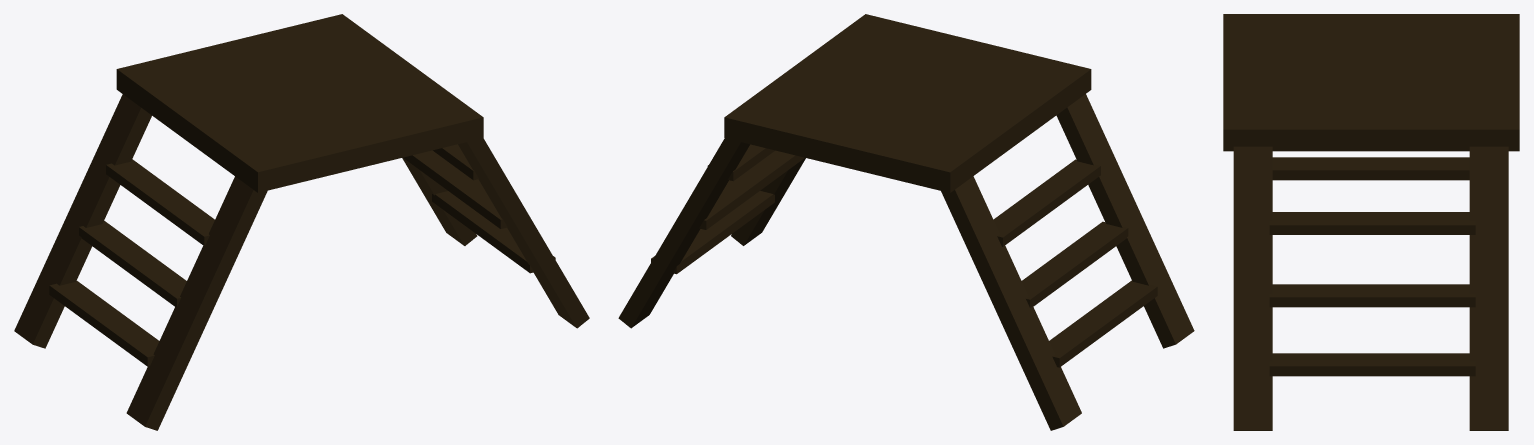
The model's file is Escalera.fbx.
The picture shows the model from 3 angles, left to right: view 1: azimuth 30°, elevation 25°; view 2: azimuth 150°, elevation 25°; view 3: azimuth 270°, elevation 25°; orthographic projection. The views are drawn at different scales.
Visible parts, largest first — view 1: Escalera; view 2: Escalera; view 3: Escalera.
Part boxes in pixels (left/top/right/bottom): Escalera: left=14, top=14, right=589, bottom=430; Escalera: left=618, top=14, right=1194, bottom=430; Escalera: left=1223, top=14, right=1519, bottom=430.
Bounding box in the file's own units: 74.64 × 38.31 × 41.
